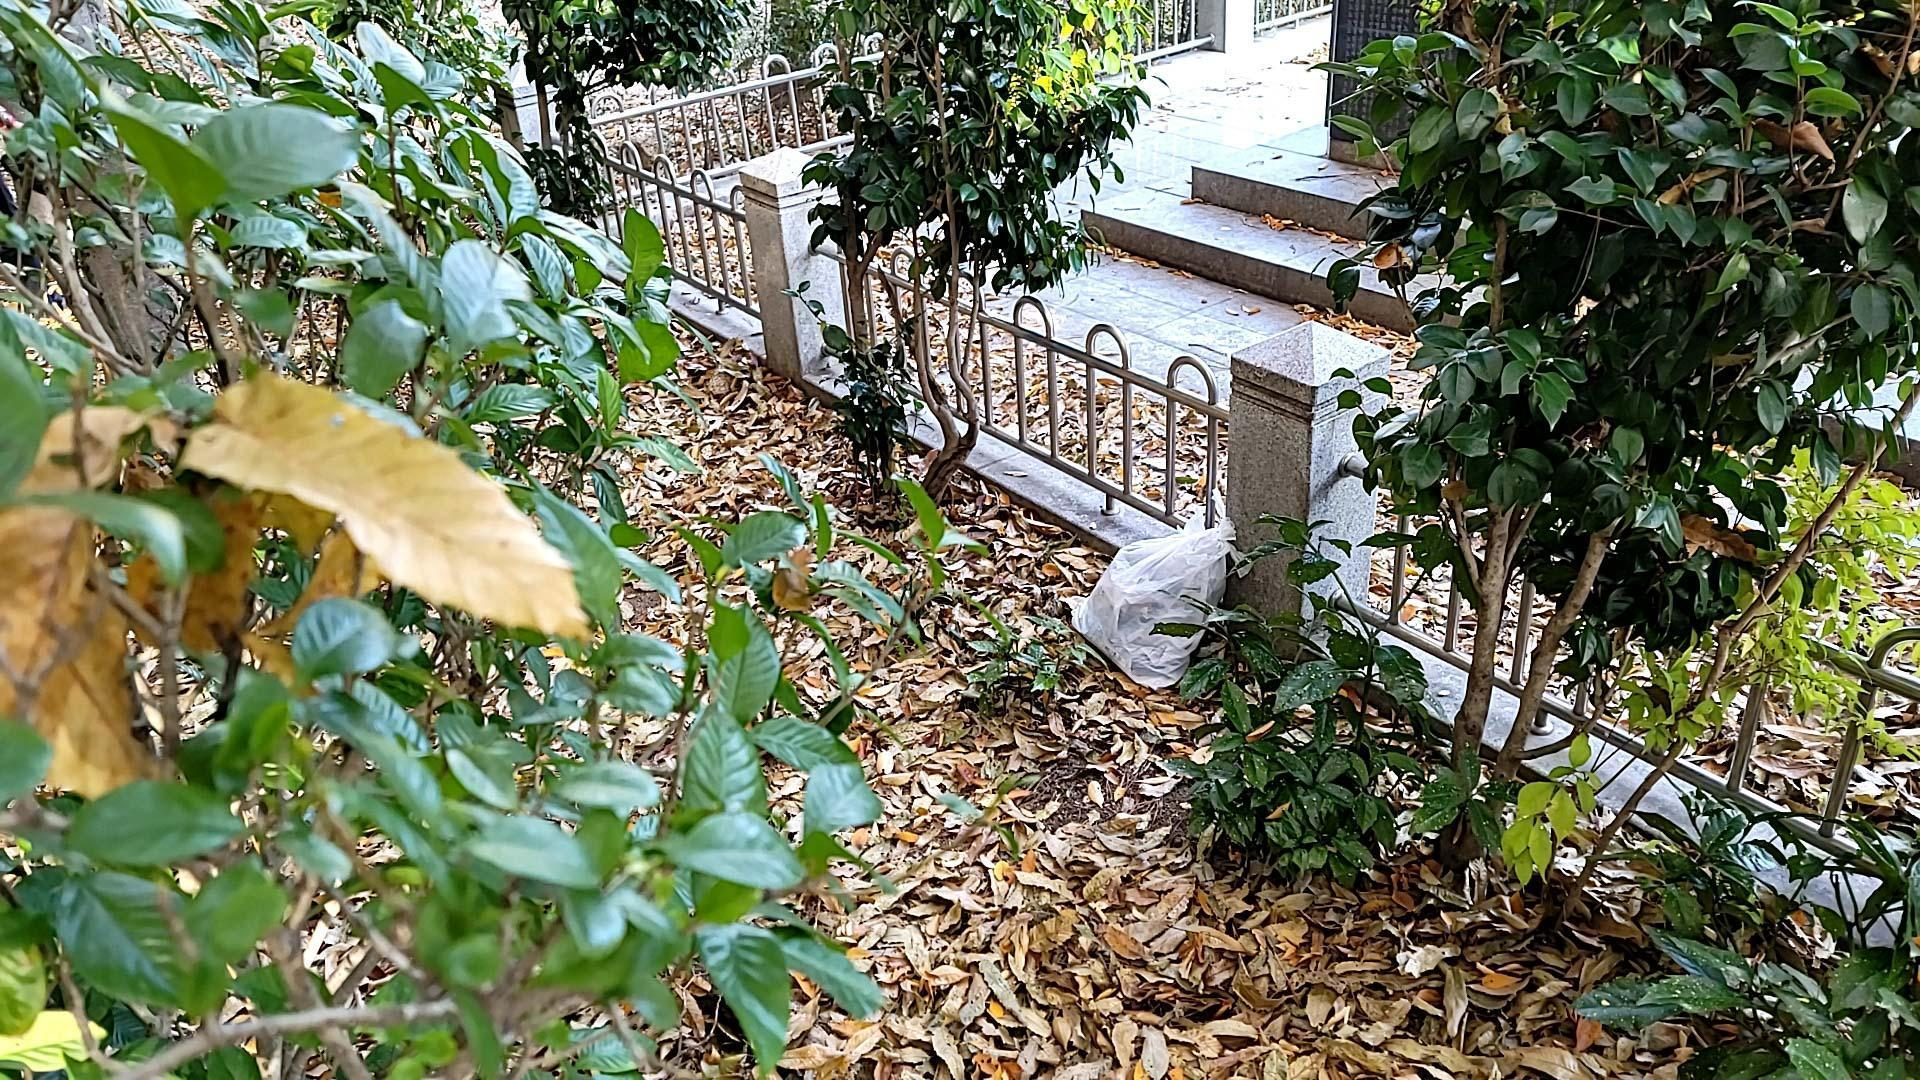white_bag: (1056, 485, 1276, 711)
